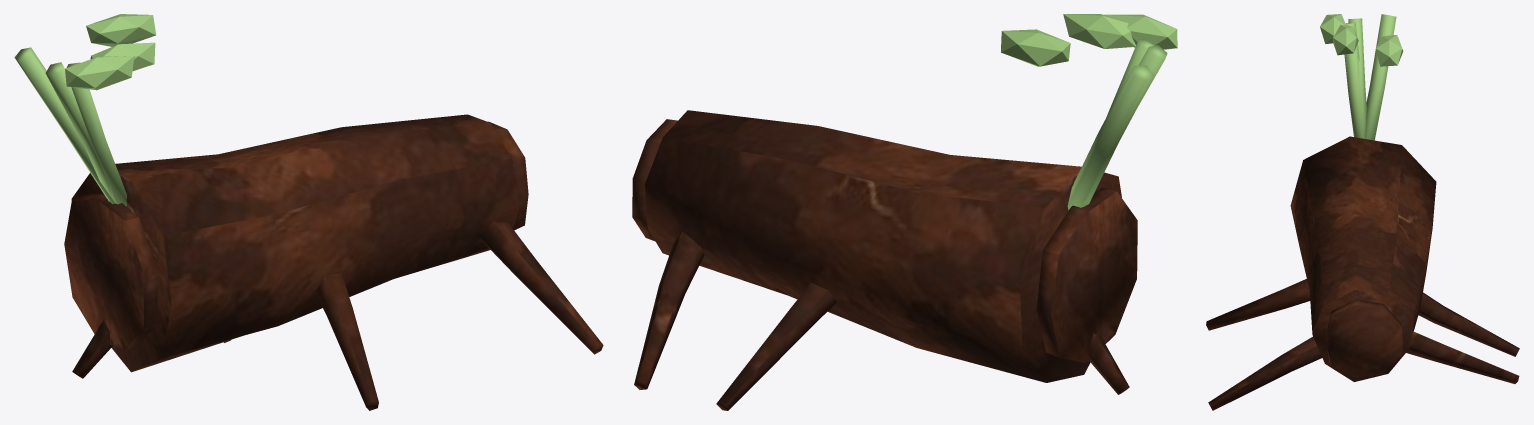
The model's file is root_tuber.glb.
3 renders of one model, left to right at view 1: azimuth 30°, elevation 25°; view 2: azimuth 150°, elevation 25°; view 3: azimuth 270°, elevation 25°, orthographic. The views are drawn at different scales.
Visible parts, largest first — view 1: model; view 2: model; view 3: model.
Boxes of the visible parts, x1,y1,x2,y2 form: model: (14,14,603,410); model: (632,14,1177,410); model: (1206,14,1519,410).
Bounding box in the file's own units: 0.3108 × 0.2134 × 0.247.
Materials: 3 (2 with a texture image).
